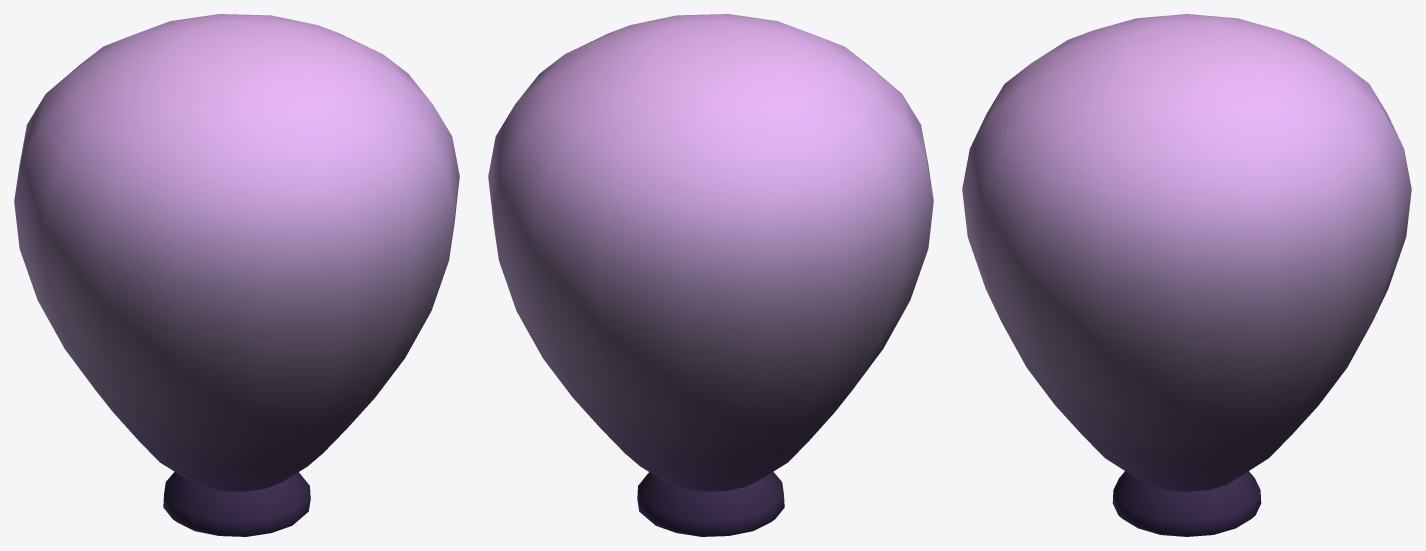
Rendered from SM_Balloon_Purple.fbx.
3 views of the same model, side by side, from view 1: azimuth 30°, elevation 25°; view 2: azimuth 150°, elevation 25°; view 3: azimuth 270°, elevation 25° (orthographic).
Parts seen in each view (by area): view 1: SM_Balloon_Purple; view 2: SM_Balloon_Purple; view 3: SM_Balloon_Purple.
Boxes of the visible parts, <box> form: SM_Balloon_Purple: <box>14,14,459,536</box>; SM_Balloon_Purple: <box>488,14,933,536</box>; SM_Balloon_Purple: <box>962,14,1411,536</box>.
Bounding box in the file's own units: 82.92 × 94.62 × 82.92.
